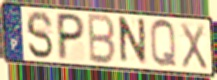B: (87, 12, 117, 67)
N: (118, 15, 148, 68)
P: (56, 11, 86, 62)
Q: (148, 18, 179, 71)
S: (24, 10, 55, 62)
X: (178, 21, 209, 72)
